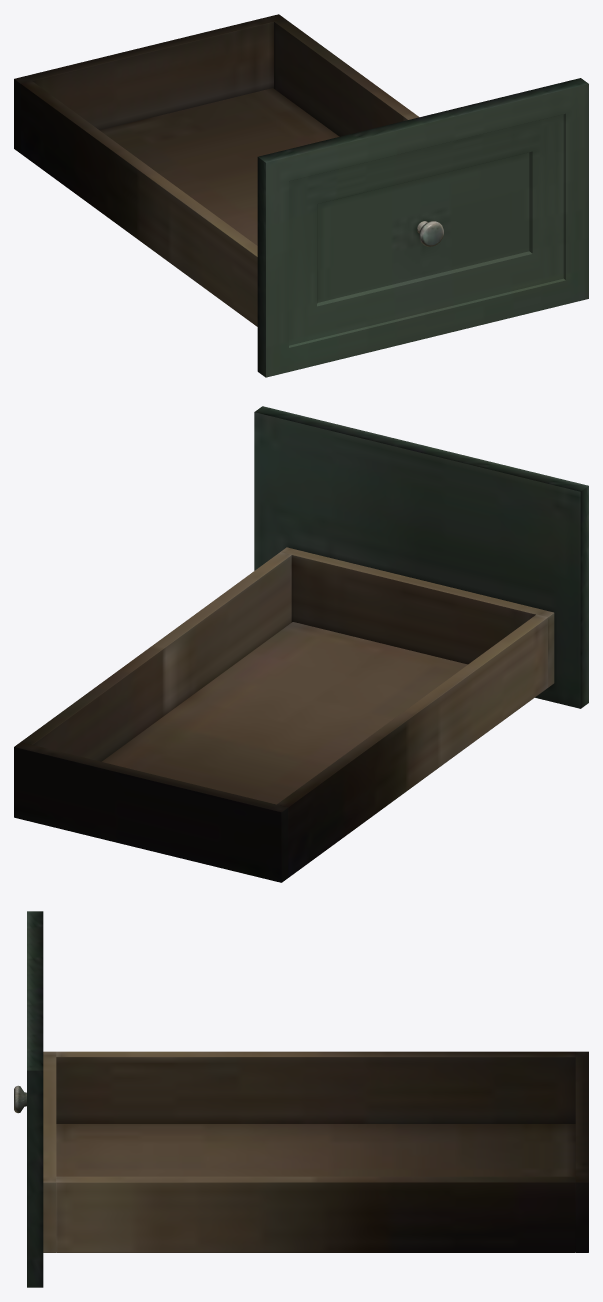
The model's file is Drawer_Middle_Right.gltf.
The picture shows the model from 3 angles, top to bottom: view 1: azimuth 30°, elevation 25°; view 2: azimuth 150°, elevation 25°; view 3: azimuth 270°, elevation 25°; orthographic projection.
Parts seen in each view (by area): view 1: Drawer_Middle_Right; view 2: Drawer_Middle_Right; view 3: Drawer_Middle_Right.
Part boxes in pixels (x1,y1,x2,y2): Drawer_Middle_Right: (14,14,588,377); Drawer_Middle_Right: (14,406,588,882); Drawer_Middle_Right: (14,911,588,1287).
Bounding box in the file's own units: 443 × 282 × 675.
Materials: 3 (3 with a texture image).
